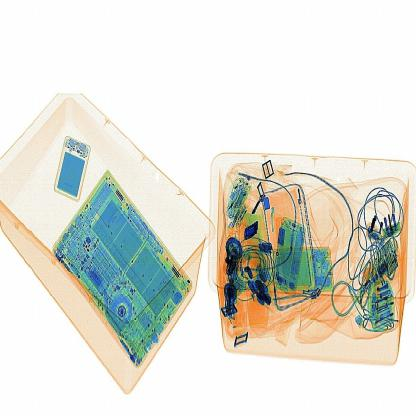knife: (239, 215, 263, 249)
